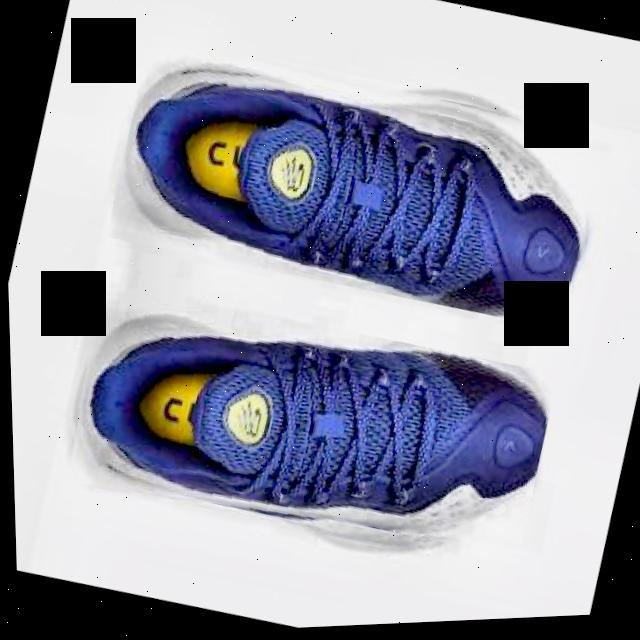shoe: (99, 10, 621, 353), (50, 266, 560, 592)
